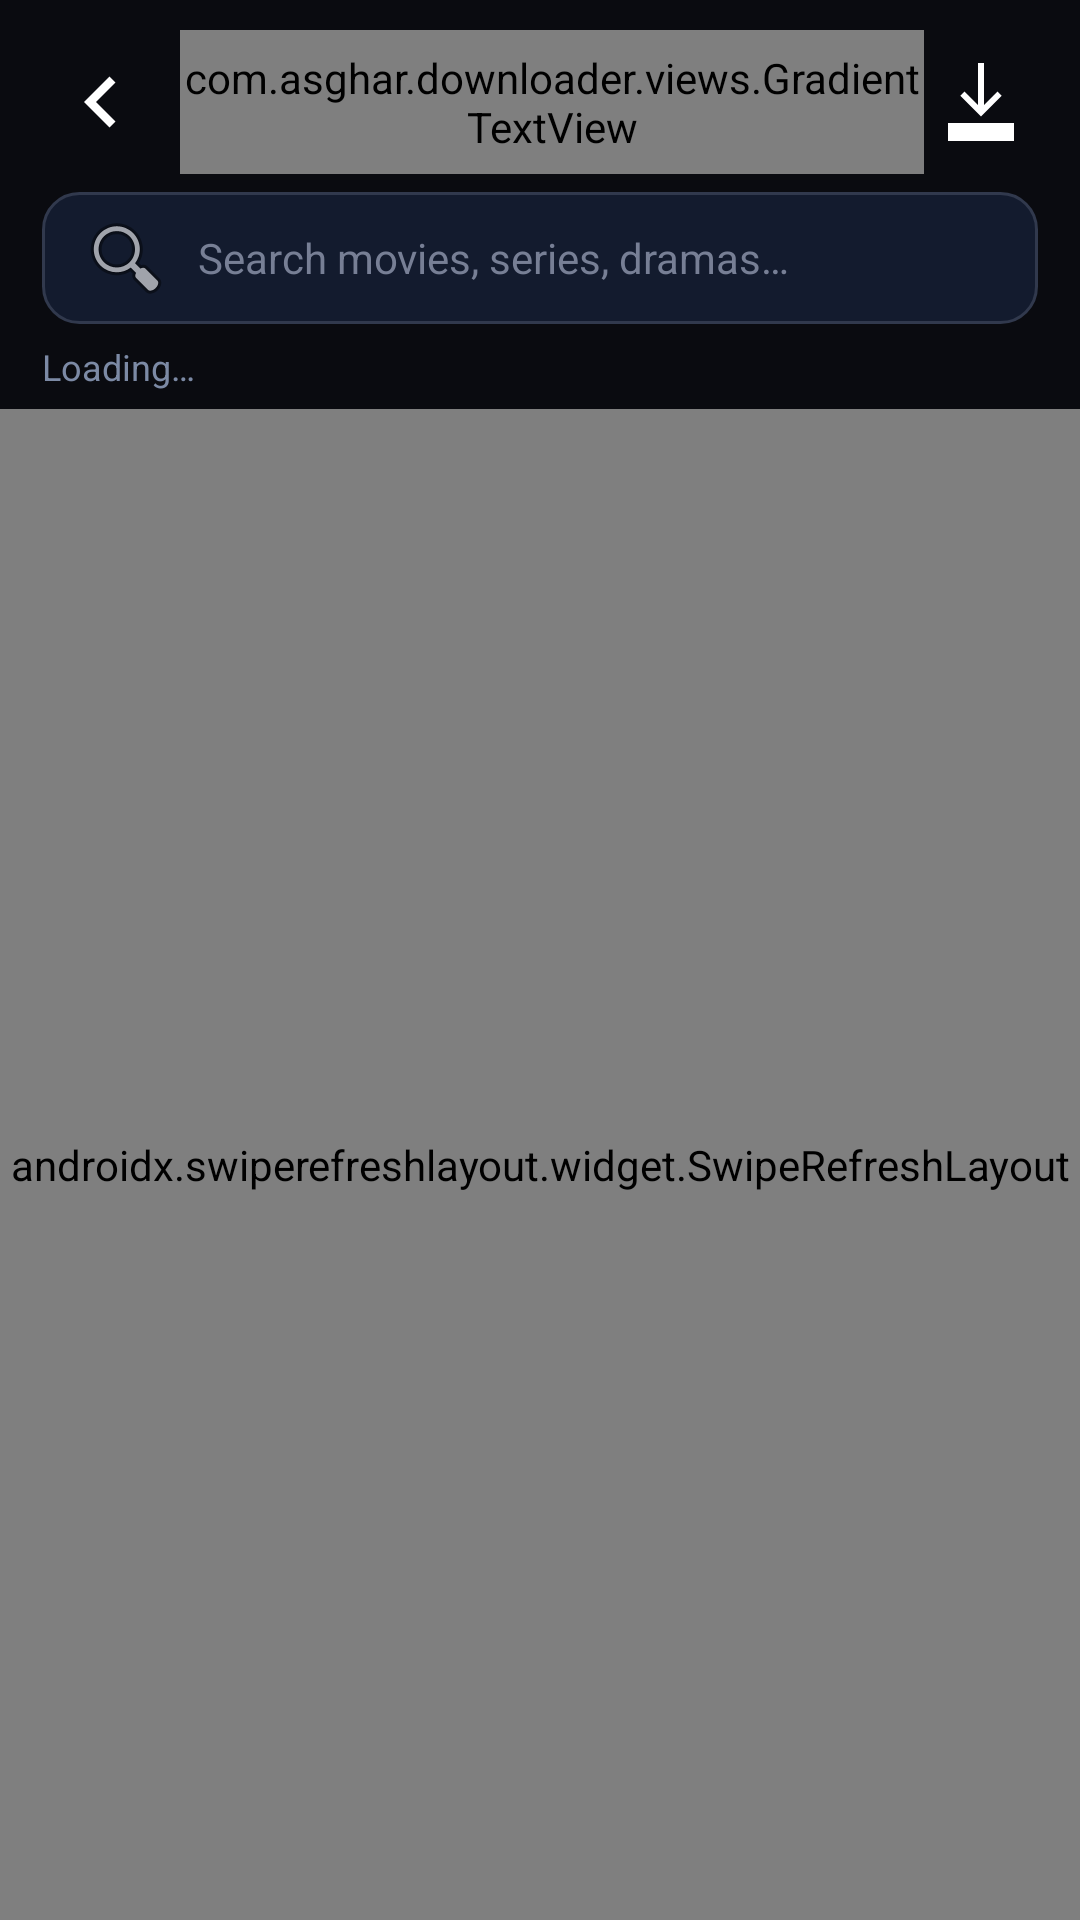

Icon bounding boxes for this 1080*1920 phone screenshot, format (x1, y1, x2, y2):
Back: (84, 76, 116, 128)
